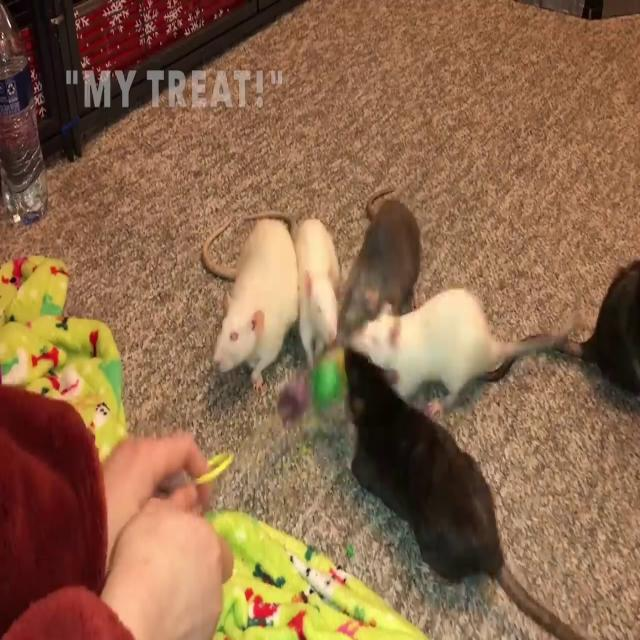rat: (345, 349, 583, 640), (349, 284, 576, 402), (200, 216, 296, 387), (338, 190, 424, 332), (298, 214, 338, 379)
